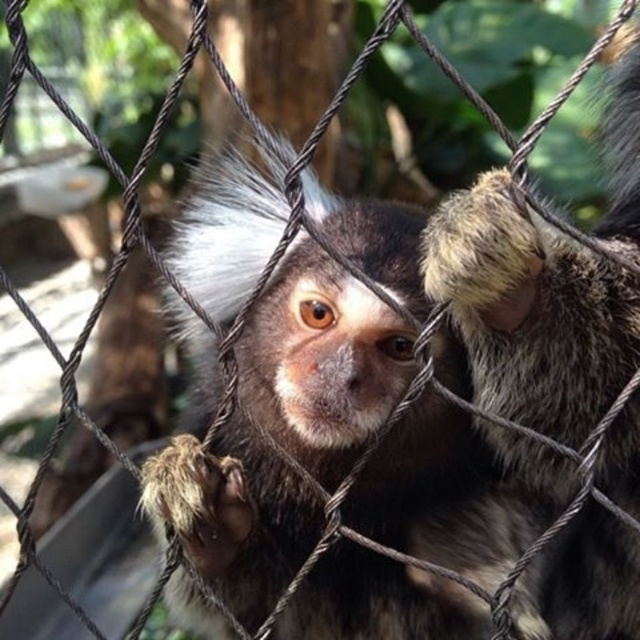Monkey: (131, 116, 640, 640)
